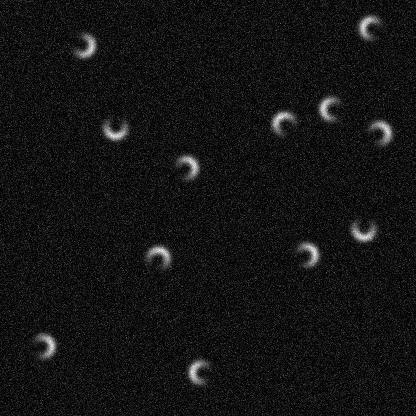Janus: (142, 243, 172, 273), (27, 331, 57, 361), (67, 29, 97, 59), (269, 109, 299, 139), (186, 357, 216, 387), (290, 240, 320, 270), (316, 93, 346, 123), (170, 153, 200, 183), (348, 213, 378, 243), (356, 13, 386, 43), (363, 118, 393, 148), (100, 111, 130, 141)
